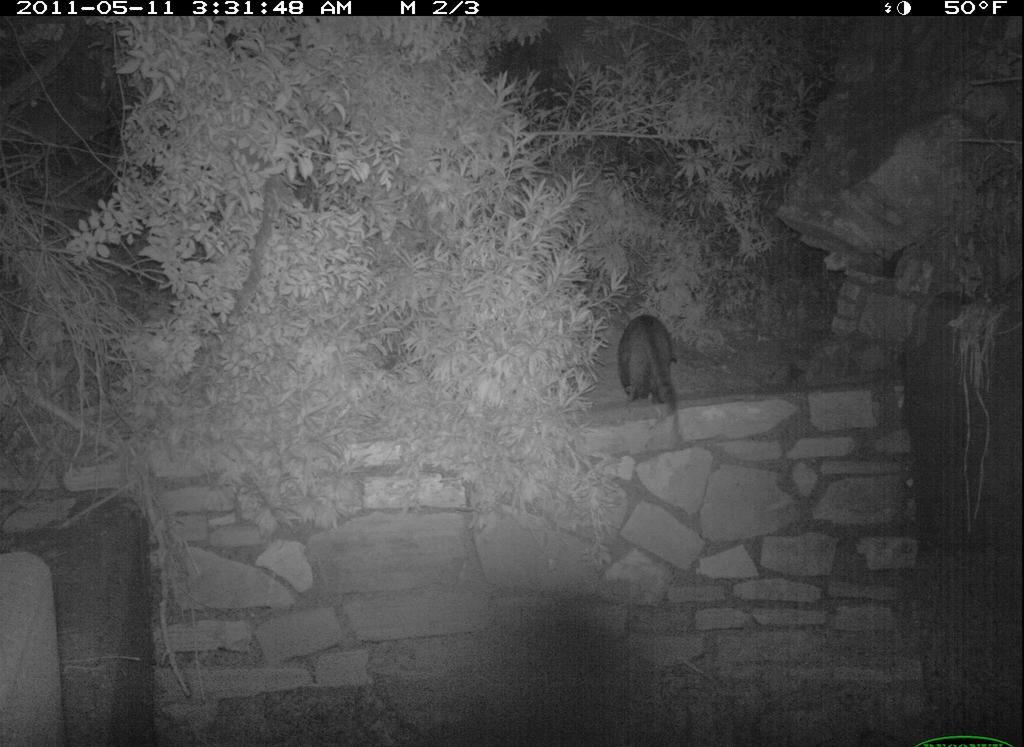cat: (605, 303, 697, 445)
